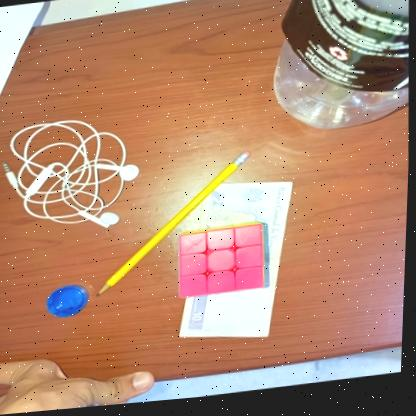ten-back-vef: (175, 180, 301, 353)
